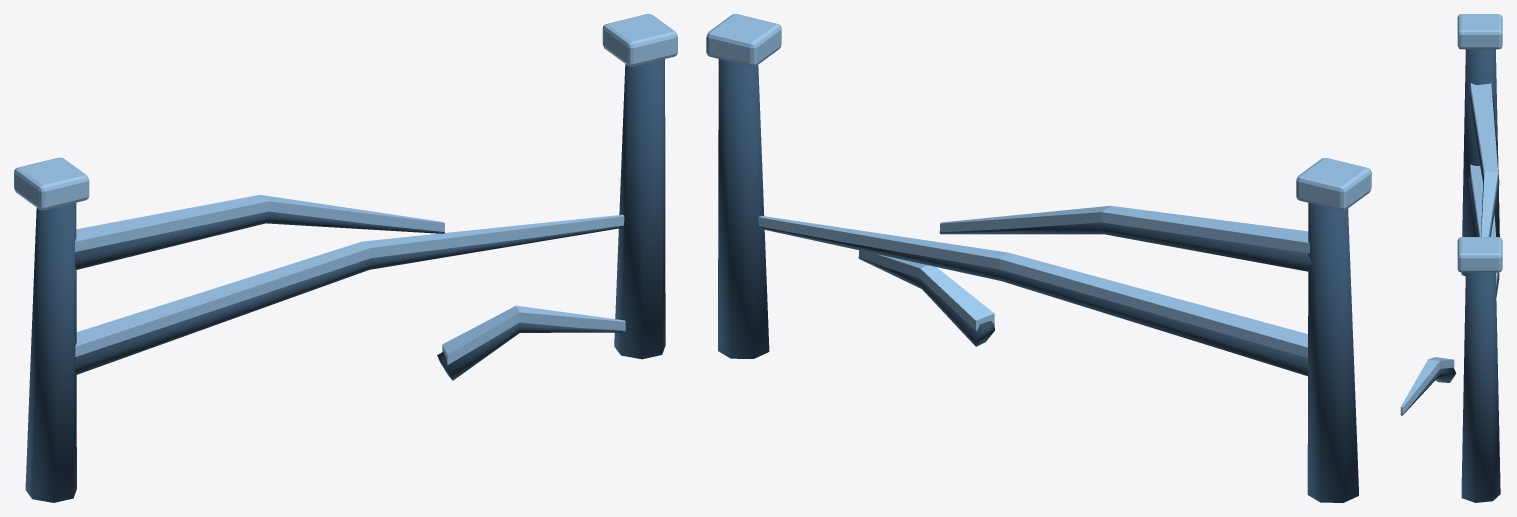
File: fence_broken.glb
The picture shows the model from 3 angles, left to right: view 1: azimuth 30°, elevation 25°; view 2: azimuth 150°, elevation 25°; view 3: azimuth 270°, elevation 25°; orthographic projection. The views are drawn at different scales.
Parts seen in each view (by area): view 1: Near; view 2: Near; view 3: Near.
Boxes of the visible parts, x1,y1,x2,y2 form: Near: (14,14,677,502); Near: (706,14,1371,502); Near: (1400,14,1502,502).
Size of the model in its own units: 2.93 by 1.41 by 0.5224.
